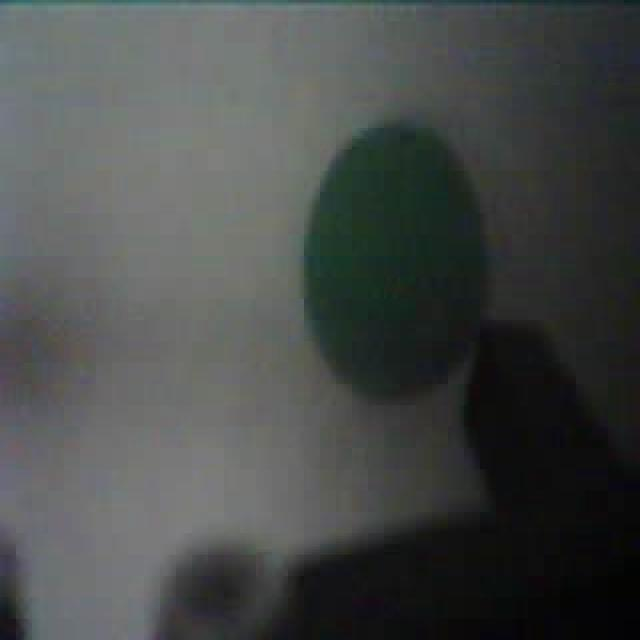green_ball: (298, 115, 492, 400)
